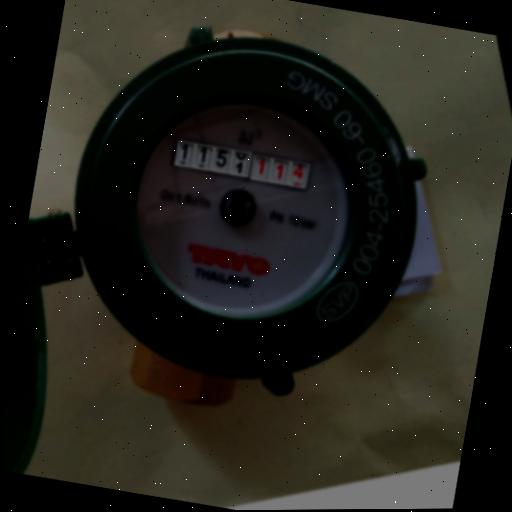0: (231, 151, 248, 174)
1: (175, 142, 192, 165), (194, 145, 211, 168), (271, 159, 288, 182), (252, 156, 269, 178)
4: (288, 163, 305, 186)
5: (212, 148, 229, 170)
border_water_meter_number: (169, 135, 312, 193)
